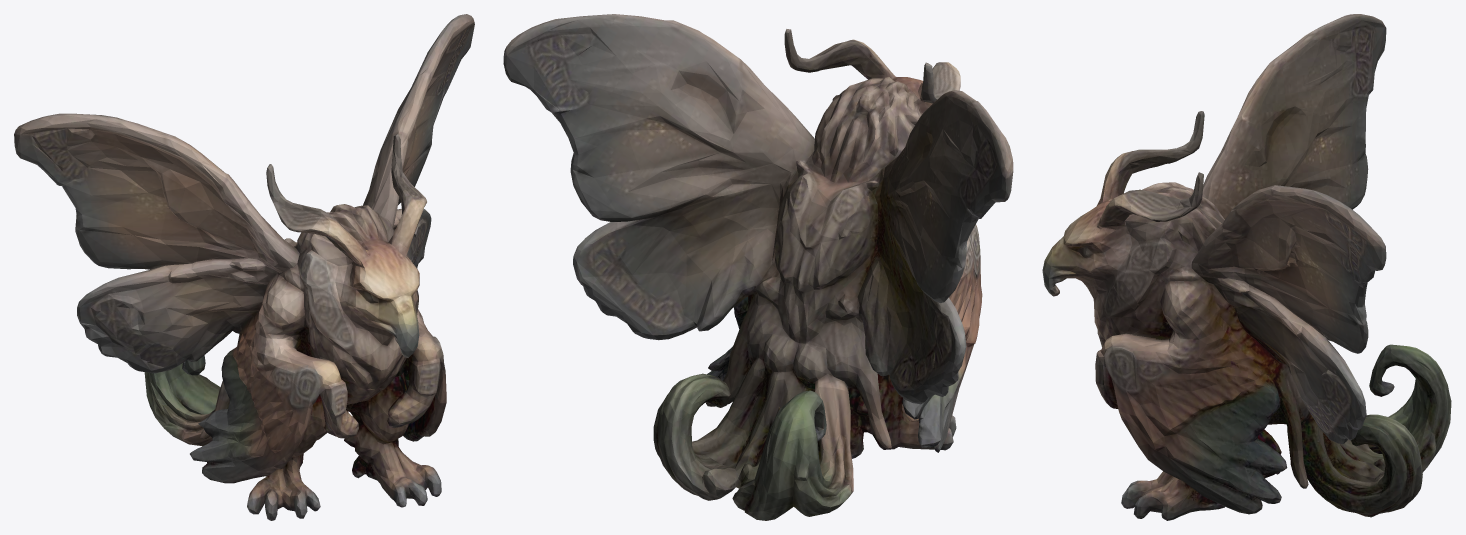
The model's file is lumoth.glb.
The picture shows the model from 3 angles, left to right: view 1: azimuth 30°, elevation 25°; view 2: azimuth 150°, elevation 25°; view 3: azimuth 270°, elevation 25°; orthographic projection. The views are drawn at different scales.
Parts seen in each view (by area): view 1: world; view 2: world; view 3: world.
Boxes of the visible parts, x1=… form: world: x1=14, y1=14, x2=474, y2=520; world: x1=503, y1=14, x2=1013, y2=520; world: x1=1042, y1=14, x2=1451, y2=520.
Bounding box in the file's own units: 1 × 0.7966 × 0.7767.
Materials: 1 (1 with a texture image).
